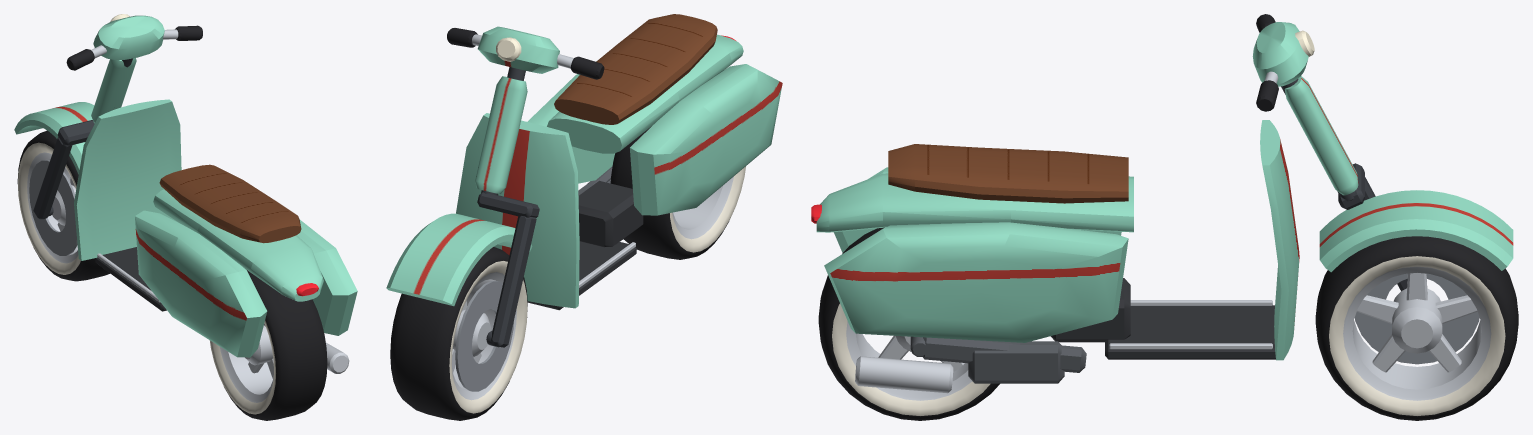
File: MotorcycleTag_Scooter.obj
The picture shows the model from 3 angles, left to right: view 1: azimuth 30°, elevation 25°; view 2: azimuth 150°, elevation 25°; view 3: azimuth 270°, elevation 25°; orthographic projection. The views are drawn at different scales.
Visible parts, largest first — view 1: Bodywork, RearWheel, Seat, FrontWheel, Fork, Handlebars, FrontFender, Frame, Swingarm; view 2: Bodywork, FrontWheel, Seat, Fork, FrontFender, RearWheel, Frame, Handlebars, Headlight; view 3: Bodywork, FrontWheel, Seat, Frame, FrontFender, Swingarm, RearWheel, Fork, Handlebars.
Part boxes in pixels (left/top/right/bottom): Bodywork: left=74, top=99, right=357, bottom=357; RearWheel: left=209, top=269, right=327, bottom=420; Seat: left=159, top=164, right=301, bottom=243; FrontWheel: left=17, top=130, right=109, bottom=281; Fork: left=33, top=58, right=136, bottom=219; Handlebars: left=66, top=15, right=202, bottom=70; FrontFender: left=14, top=102, right=94, bottom=174; Frame: left=95, top=247, right=166, bottom=311; Swingarm: left=325, top=342, right=349, bottom=373; Bodywork: left=456, top=34, right=782, bottom=308; FrontWheel: left=390, top=247, right=527, bottom=420; Seat: left=554, top=14, right=717, bottom=124; Fork: left=475, top=67, right=539, bottom=347; FrontFender: left=386, top=213, right=532, bottom=306; RearWheel: left=610, top=126, right=745, bottom=259; Frame: left=527, top=180, right=643, bottom=310; Handlebars: left=447, top=26, right=604, bottom=79; Headlight: left=496, top=37, right=521, bottom=61; Bodywork: left=816, top=120, right=1299, bottom=360; FrontWheel: left=1315, top=236, right=1518, bottom=420; Seat: left=888, top=144, right=1128, bottom=203; Frame: left=1050, top=278, right=1275, bottom=359; FrontFender: left=1319, top=190, right=1513, bottom=272; Swingarm: left=855, top=336, right=1086, bottom=393; RearWheel: left=818, top=227, right=999, bottom=420; Fork: left=1281, top=76, right=1407, bottom=291; Handlebars: left=1252, top=14, right=1308, bottom=111.
Bounding box in the file's own units: 1.87 × 3.93 × 6.62.
1 material, 1 textured.
